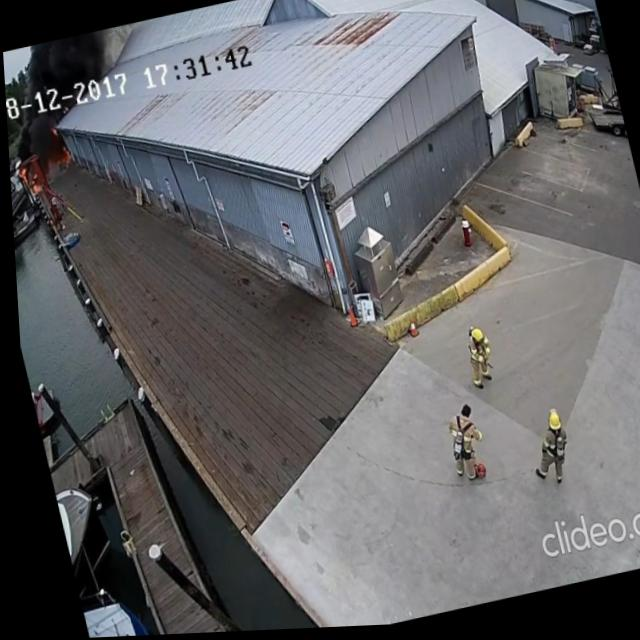fire: (42, 121, 72, 173), (11, 160, 45, 202)
